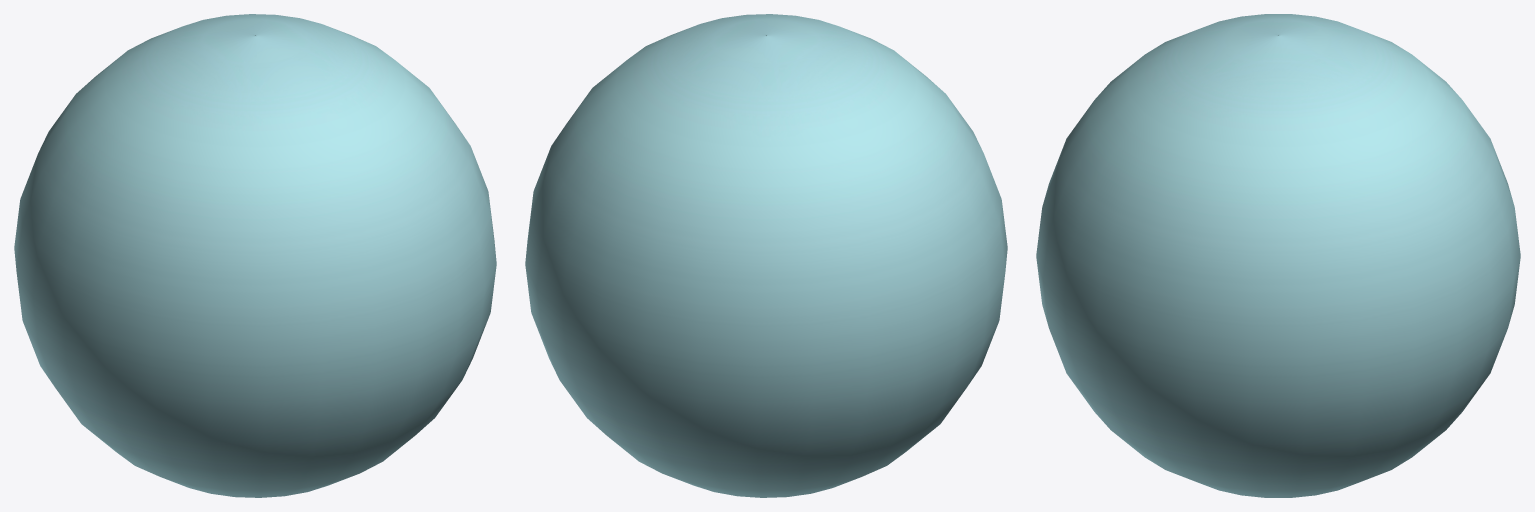
Rendered from uranus_01.fbx.
The picture shows the model from 3 angles, left to right: view 1: azimuth 30°, elevation 25°; view 2: azimuth 150°, elevation 25°; view 3: azimuth 270°, elevation 25°; orthographic projection.
Visible parts, largest first — view 1: uranus_model; view 2: uranus_model; view 3: uranus_model.
Boxes of the visible parts, x1=… form: uranus_model: x1=14, y1=14, x2=496, y2=497; uranus_model: x1=525, y1=14, x2=1007, y2=497; uranus_model: x1=1036, y1=14, x2=1520, y2=497.
Bounding box in the file's own units: 199 × 200 × 200.
1 material, 1 textured.
